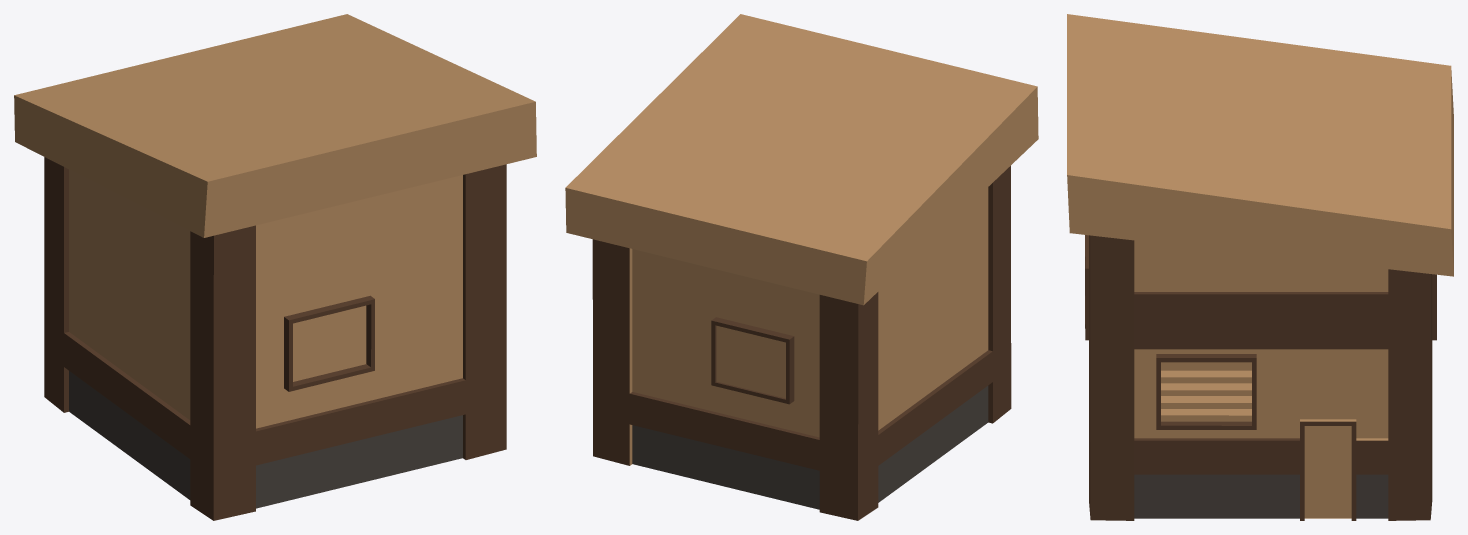
Rendered from medieval1.fbx.
3 renders of one model, left to right at view 1: azimuth 30°, elevation 25°; view 2: azimuth 150°, elevation 25°; view 3: azimuth 270°, elevation 25°, orthographic. The views are drawn at different scales.
Visible parts, largest first — view 1: Cube; view 2: Cube; view 3: Cube.
Part boxes in pixels (bbox=[...]): Cube: bbox=[14, 14, 536, 520]; Cube: bbox=[565, 14, 1038, 520]; Cube: bbox=[1067, 14, 1453, 520].
Size of the model in its own units: 932 by 948 by 932.
